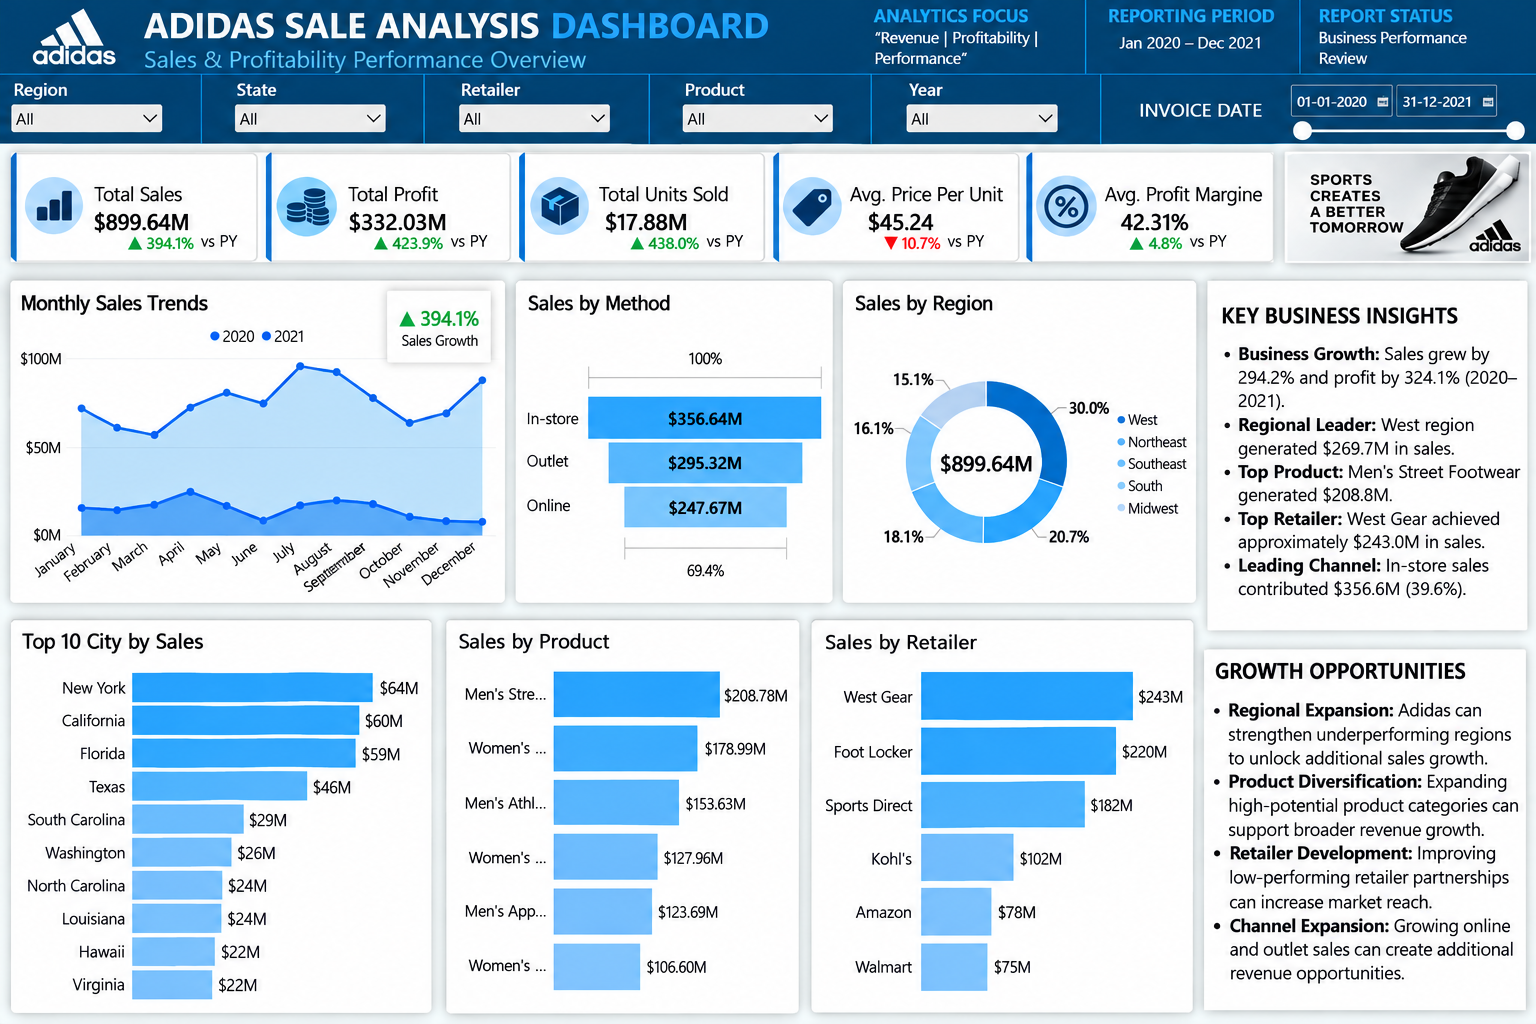

This screenshot's page, from the dashboard's own definition file:
{"tool":"powerbi","page":{"name":"Page 1","canvas":[2100,1400],"ordinal":0},"visuals":[{"type":"areaChart","title":"Monthly Sales Trends","fields":{"Category":["Calendar Table.Date.Variation.Date Hierarchy.Month"],"Y":["pm.PreviousYearSales","KPIs_DAX.Total Sales"]},"box":[17.5,382.5,672.3,440.7],"z":0},{"type":"barChart","title":"Top 10 City by Sales","fields":{"Category":["Data Sales Adidas.State"],"Y":["KPIs_DAX.Total Sales"]},"box":[20,844.9,569.2,537.8],"z":1000},{"type":"shape","box":[0,0,2100,194],"z":2000},{"type":"slicer","fields":{"Values":["Calendar Table.Date"]},"box":[1755,110,330,80],"z":4000},{"type":"textbox","box":[200,1,959.1,66],"z":5000},{"type":"barChart","title":"Sales by Product","fields":{"Category":["Data Sales Adidas.Product"],"Y":["KPIs_DAX.Total Sales"]},"box":[609.1,842.5,481.7,542.5],"z":6000},{"type":"textbox","box":[1553.8,130,202.5,38],"z":7000},{"type":"image","box":[27,0,155,98],"z":8000},{"type":"barChart","title":"Sales by Retailer","fields":{"Category":["Data Sales Adidas.Retailer"],"Y":["KPIs_DAX.Total Sales"]},"box":[1110.7,844.9,521.5,537.8],"z":9000},{"type":"slicer","fields":{"Values":["Data Sales Adidas.Region"]},"box":[15,107,215.7,75],"z":10000},{"type":"donutChart","title":"Sales by Region ","fields":{"Category":["Data Sales Adidas.Region"],"Y":["KPIs_DAX.Total Sales"]},"box":[1155.2,382.5,479.9,439.6],"z":11000},{"type":"shape","box":[1647,889.8,437,488.8],"z":12000},{"type":"slicer","fields":{"Values":["Data Sales Adidas.Retailer"]},"box":[624.8,107,215.7,75],"z":13000},{"type":"cardVisual","fields":{"Data":["KPIs_DAX.Total Sales","KPIs_DAX.Total Profite","KPIs_DAX.Total Unit Sold","KPIs_DAX.Price Per Unit","KPIs_DAX.AVG. Margine"]},"box":[20,207.5,1721.2,147.7],"z":14000},{"type":"textbox","box":[1512,5,274,44],"z":14028,"group":"g1"},{"type":"funnel","title":"Sales by Method","fields":{"Category":["Data Sales Adidas.Sales Method"],"Y":["KPIs_DAX.Total Sales"]},"box":[707.3,382.5,429.9,440.7],"z":15000},{"type":"slicer","fields":{"Values":["Data Sales Adidas.Product"]},"box":[929.7,107,215.7,75],"z":16000},{"type":"textbox","box":[200,56,700,48],"z":17000},{"type":"image","box":[1757.5,207.5,332.5,147.5],"z":18000},{"type":"shape","box":[1651.1,382.5,433.9,477.5],"z":19000},{"type":"slicer","fields":{"Values":["Calendar Table.Year"]},"box":[1234.6,107,215.7,75],"z":20000},{"type":"slicer","fields":{"Values":["Data Sales Adidas.State"]},"box":[319.9,107,215.7,75],"z":21000},{"type":"shape","box":[263.8,100,26.4,93],"z":22000},{"type":"cardVisual","fields":{"Data":["Growth Display.Sales Growth Display"]},"box":[162.5,310,127.5,40],"z":23000},{"type":"shape","box":[1170.7,100,41.8,90],"z":24000},{"type":"cardVisual","fields":{"Data":["Growth Display.Profit Growth Display"]},"box":[497.5,310,137,40],"z":25000},{"type":"image","box":[33.8,236.1,88.9,91.1],"z":26000},{"type":"cardVisual","fields":{"Data":["Growth Display.Units Growth Display"]},"box":[847.5,310,134,40],"z":27000},{"type":"shape","box":[549.9,100,61.6,94],"z":28000},{"type":"cardVisual","fields":{"Data":["Growth Display.Price Growth Display"]},"box":[1192.5,310,127.5,40],"z":29000},{"type":"cardVisual","fields":{"Data":["Growth Display.Margin Growth Display"]},"box":[1525,310,127.5,40],"z":30000},{"type":"image","box":[377.7,234.1,88.9,91.1],"z":31000},{"type":"textbox","box":[280,310,77.5,55],"z":32000},{"type":"group","id":"g1","title":"Group 5","box":[1512,5,274,44],"z":33000},{"type":"shape","box":[1476.4,100,49.5,90],"z":34000},{"type":"textbox","box":[618,310,82.5,55],"z":35000},{"type":"textbox","box":[967,310,95,65],"z":36000},{"type":"image","box":[721.6,234.1,88.9,91.1],"z":37000},{"type":"textbox","box":[1294,310,117.5,65],"z":38000},{"type":"textbox","box":[1195,35,230,60],"z":39000},{"type":"textbox","box":[1620,310,95,92.5],"z":40000},{"type":"shape","box":[865.8,100,44,90],"z":41000},{"type":"image","box":[1067.9,236.1,88.9,91.1],"z":42000},{"type":"textbox","box":[1192,5,228,46],"z":43000},{"type":"shape","box":[1458,0,49.6,98],"z":44000},{"type":"image","box":[1413,234.1,88.9,91.1],"z":45000},{"type":"shape","box":[1750,0,49.6,98],"z":46000},{"type":"textbox","box":[1530,42,206,32],"z":47000},{"type":"textbox","box":[1800,6,230,56],"z":48000},{"type":"textbox","box":[1800,36,218,62],"z":49000},{"type":"textbox","box":[1655,393,427.5,440],"z":50000},{"type":"textbox","box":[1637.5,900,450,462.5],"z":51000},{"type":"cardVisual","fields":{"Data":["Growth Display.Sales Growth Display"]},"box":[527,396,148,100],"z":52000},{"type":"shape","box":[0,89.8,2100,23.5],"z":52500}]}

Visuals, with their boxes in screenshot pixels (x1, y1, x2, y2), scaled from the page's 2100x1400 canvas onto the 1536x1024 screenshot:
"Monthly Sales Trends" areaChart: left=13, top=280, right=505, bottom=602
"Top 10 City by Sales" barChart: left=15, top=618, right=431, bottom=1011
shape: left=0, top=0, right=1535, bottom=142
slicer - Calendar Table.Date: left=1284, top=80, right=1525, bottom=139
textbox: left=146, top=1, right=848, bottom=49
"Sales by Product" barChart: left=446, top=616, right=798, bottom=1013
textbox: left=1136, top=95, right=1285, bottom=123
image: left=20, top=0, right=133, bottom=72
"Sales by Retailer" barChart: left=812, top=618, right=1194, bottom=1011
slicer - Data Sales Adidas.Region: left=11, top=78, right=169, bottom=133
"Sales by Region " donutChart: left=845, top=280, right=1196, bottom=601
shape: left=1205, top=651, right=1524, bottom=1008
slicer - Data Sales Adidas.Retailer: left=457, top=78, right=615, bottom=133
cardVisual - KPIs_DAX.Total Sales x KPIs_DAX.Total Profite: left=15, top=152, right=1274, bottom=260
textbox: left=1106, top=4, right=1306, bottom=36
"Sales by Method" funnel: left=517, top=280, right=832, bottom=602
slicer - Data Sales Adidas.Product: left=680, top=78, right=838, bottom=133
textbox: left=146, top=41, right=658, bottom=76
image: left=1285, top=152, right=1529, bottom=260
shape: left=1208, top=280, right=1525, bottom=629
slicer - Calendar Table.Year: left=903, top=78, right=1061, bottom=133
slicer - Data Sales Adidas.State: left=234, top=78, right=392, bottom=133
shape: left=193, top=73, right=212, bottom=141
cardVisual - Growth Display.Sales Growth Display: left=119, top=227, right=212, bottom=256
shape: left=856, top=73, right=887, bottom=139
cardVisual - Growth Display.Profit Growth Display: left=364, top=227, right=464, bottom=256
image: left=25, top=173, right=90, bottom=239
cardVisual - Growth Display.Units Growth Display: left=620, top=227, right=718, bottom=256
shape: left=402, top=73, right=447, bottom=142
cardVisual - Growth Display.Price Growth Display: left=872, top=227, right=965, bottom=256
cardVisual - Growth Display.Margin Growth Display: left=1115, top=227, right=1209, bottom=256
image: left=276, top=171, right=341, bottom=238
textbox: left=205, top=227, right=261, bottom=267
"Group 5" group: left=1106, top=4, right=1306, bottom=36
shape: left=1080, top=73, right=1116, bottom=139
textbox: left=452, top=227, right=512, bottom=267
textbox: left=707, top=227, right=777, bottom=274
image: left=528, top=171, right=593, bottom=238
textbox: left=946, top=227, right=1032, bottom=274
textbox: left=874, top=26, right=1042, bottom=69
textbox: left=1185, top=227, right=1254, bottom=294
shape: left=633, top=73, right=665, bottom=139
image: left=781, top=173, right=846, bottom=239
textbox: left=872, top=4, right=1039, bottom=37
shape: left=1066, top=0, right=1103, bottom=72
image: left=1034, top=171, right=1099, bottom=238
shape: left=1280, top=0, right=1316, bottom=72
textbox: left=1119, top=31, right=1270, bottom=54
textbox: left=1317, top=4, right=1485, bottom=45
textbox: left=1317, top=26, right=1476, bottom=72
textbox: left=1211, top=287, right=1523, bottom=609
textbox: left=1198, top=658, right=1527, bottom=997
cardVisual - Growth Display.Sales Growth Display: left=385, top=290, right=494, bottom=363
shape: left=0, top=66, right=1535, bottom=83
